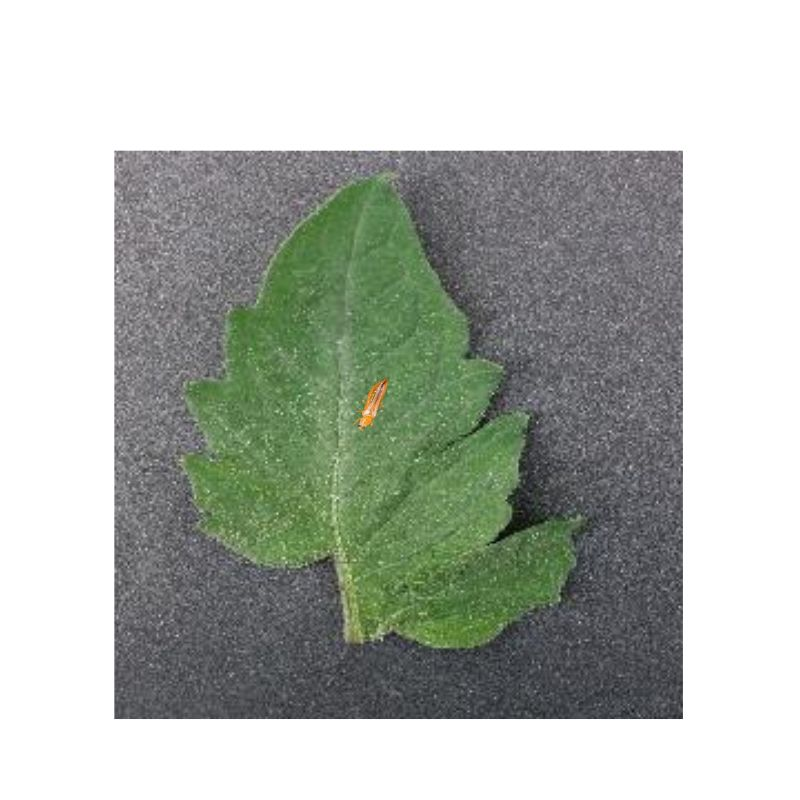thrips: (351, 377, 389, 430)
